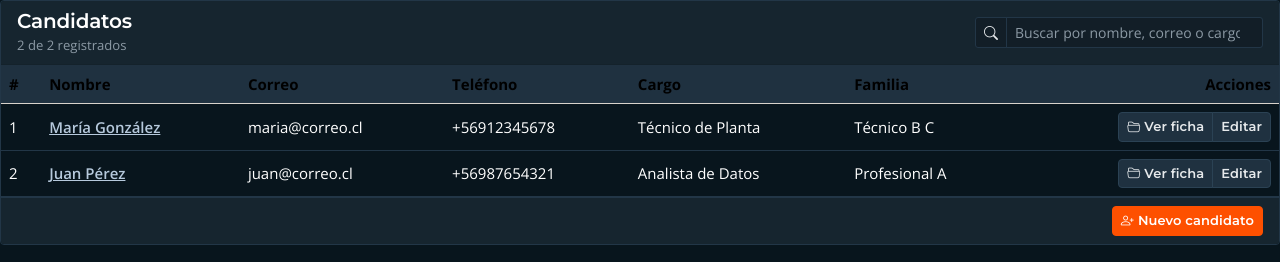
Test: ListaCandidatos › filtra los candidatos según el texto de búsqueda
Type "analista" into the search field named "buscar candidato" at (1134, 32), box top-left (1006, 17), bottom-right (1263, 48)
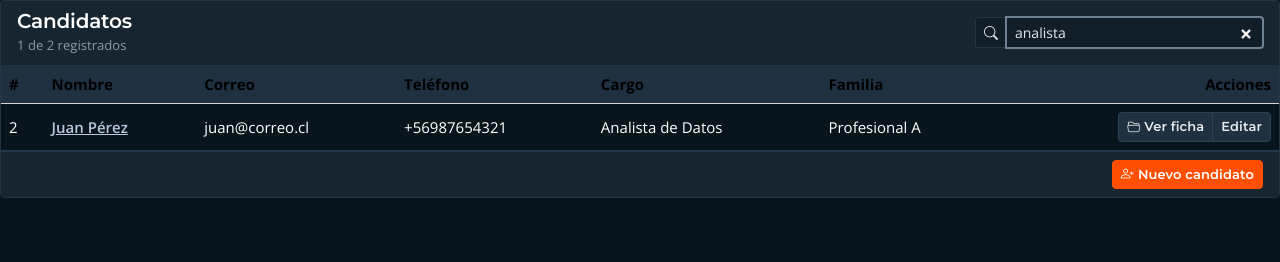
Expected: the text "juan@correo.cl" is shown, top-left (196, 104), bottom-right (396, 150)
Now the text "maria@correo.cl" is gone
